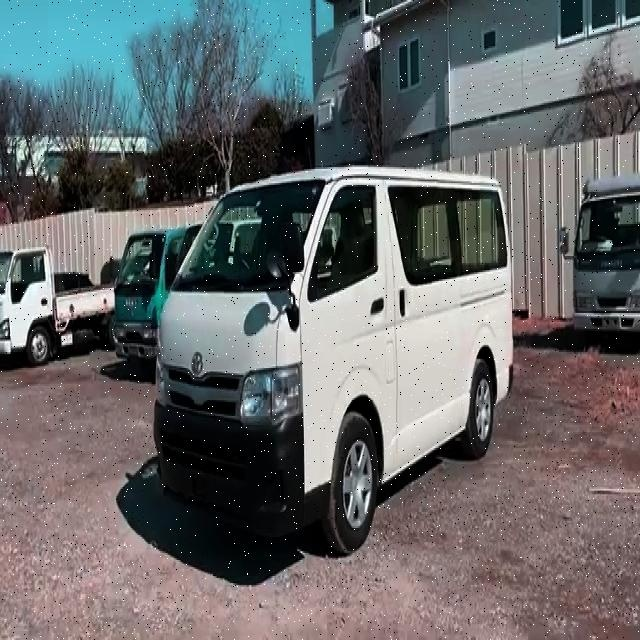Van: (152, 169, 516, 521)
